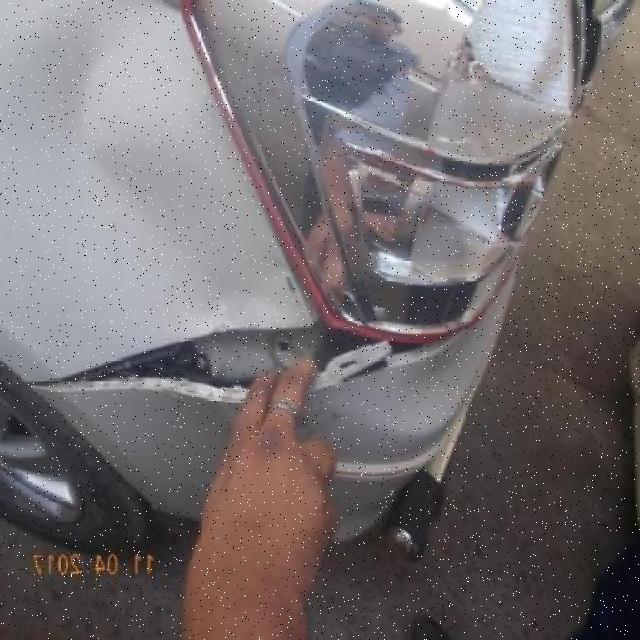damage: (181, 2, 575, 339), (2, 6, 277, 333), (24, 319, 446, 401)
